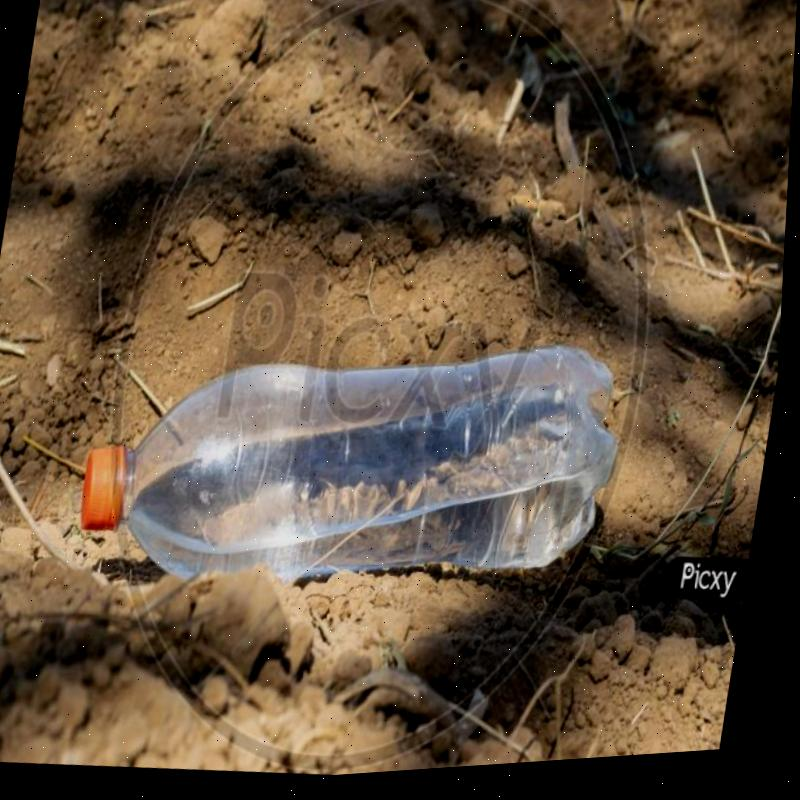botella: (69, 300, 641, 638)
